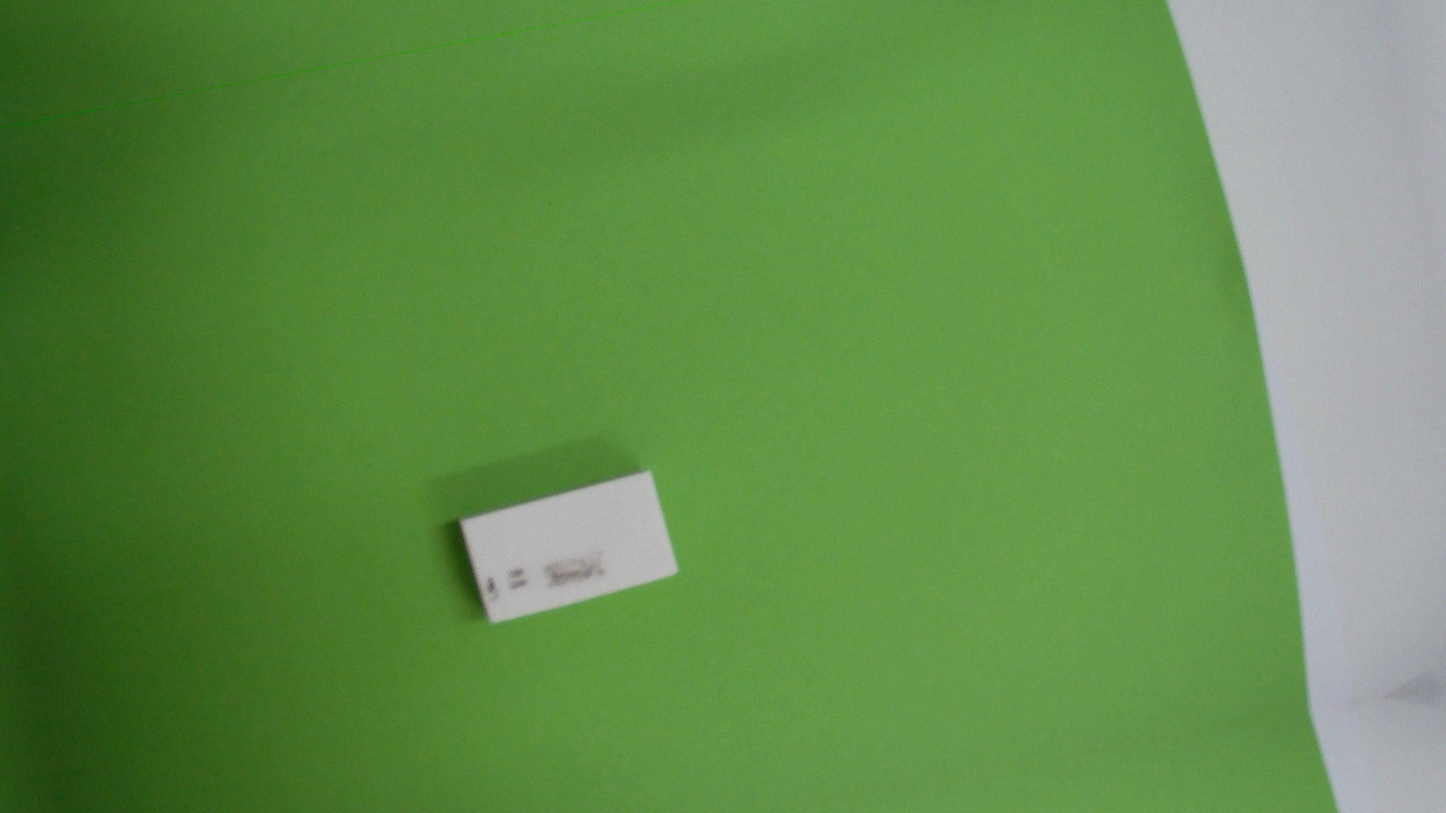gom: (451, 457, 685, 638)
